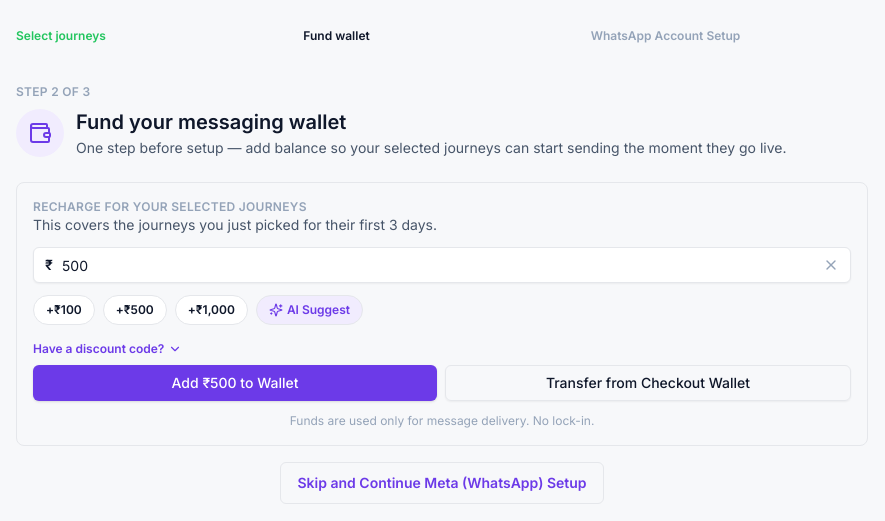
Test: EngageSetupPage › clicking step 1 on the progress bar shows the select recap, and it remains reachable
This screenshot has width=885, height=521.
Click the button with test id "setup-progress-step-0": (61, 36) 16,16 -> 293,44
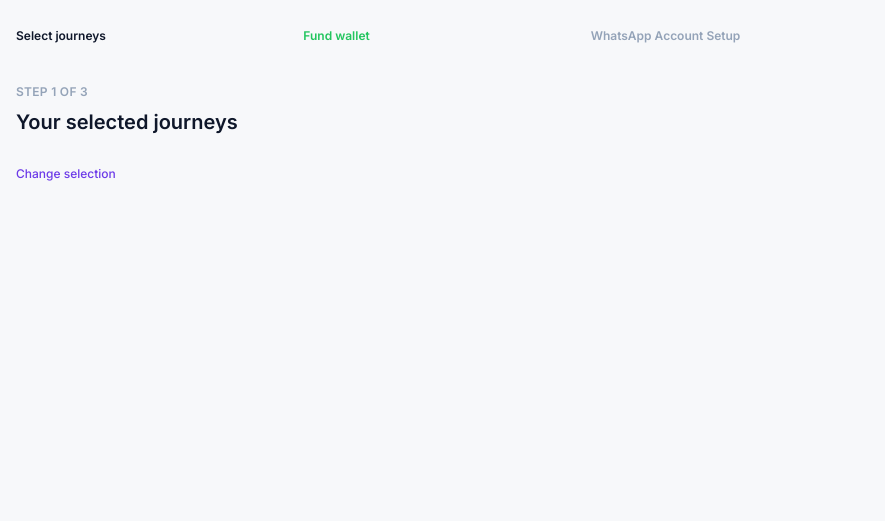
expect the element with test id "select-recap-step" is shown: met, box 16,84 -> 238,181
